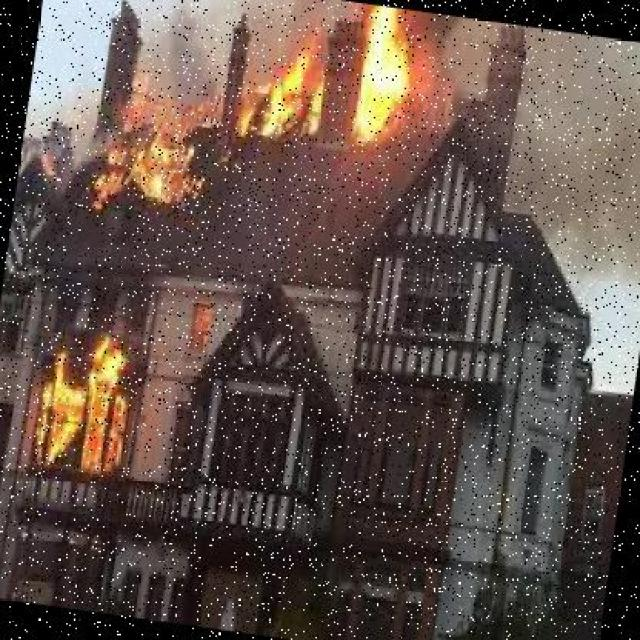fire: (72, 69, 237, 229), (14, 316, 148, 490), (344, 3, 470, 154), (230, 14, 364, 151)
